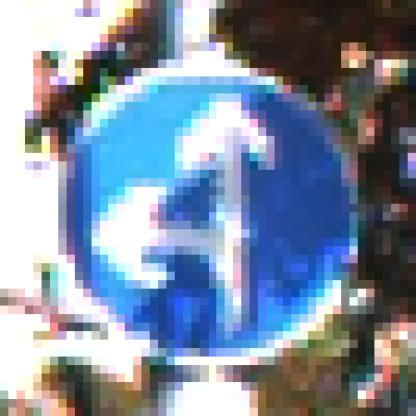Straight or Left: (43, 44, 367, 366)
